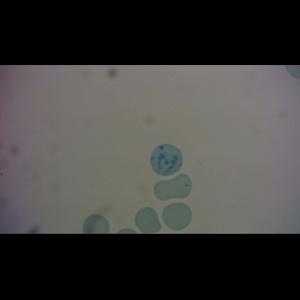aggregate reticulocyte: (149, 143, 185, 177)
erythrocyte: (160, 202, 193, 231)
punctate reticulocyte: (151, 174, 195, 202), (134, 206, 162, 234)
